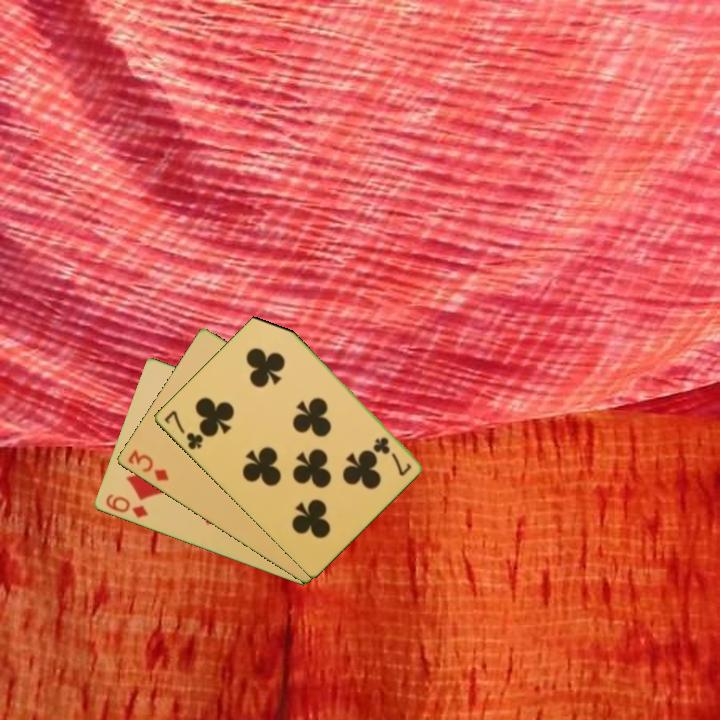3d: (124, 446, 172, 484)
6d: (102, 490, 151, 521)
7c: (160, 407, 206, 453), (370, 434, 414, 478)
